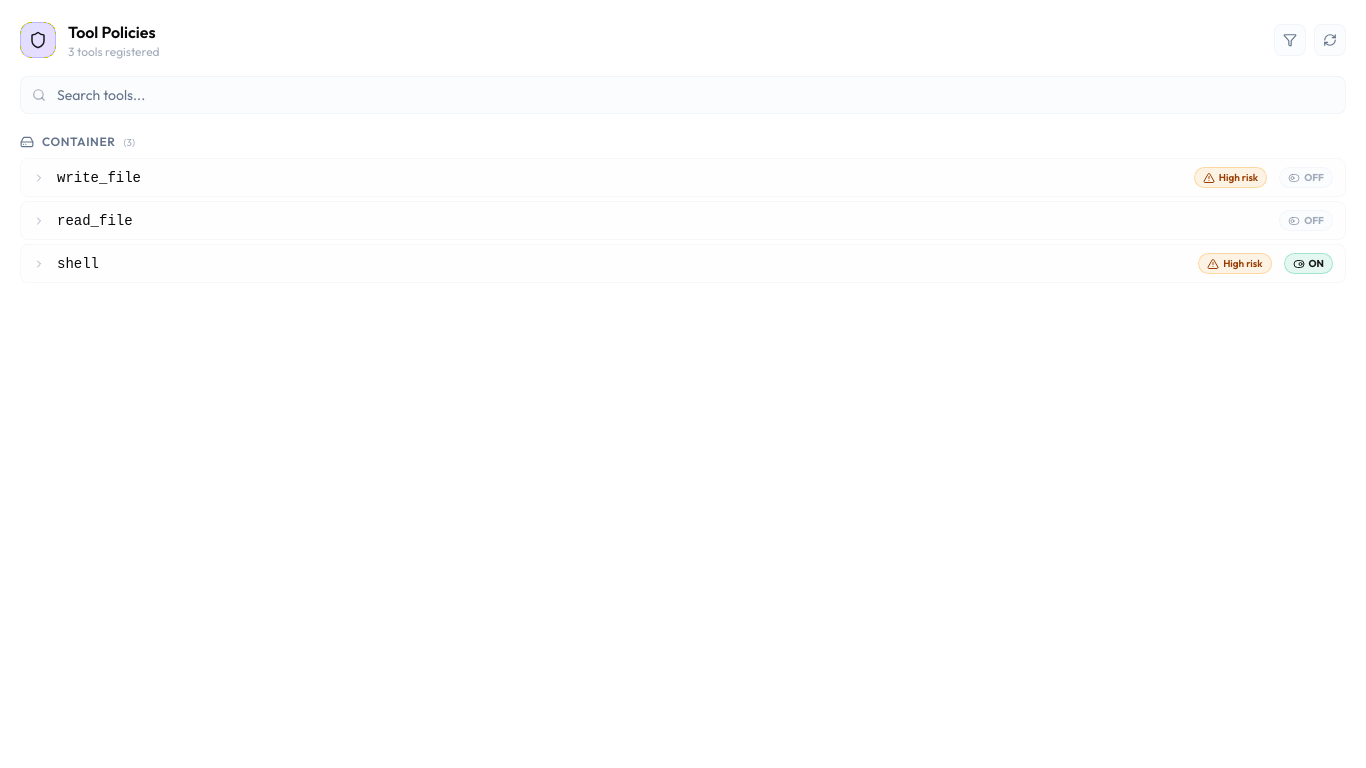
Test case: ThinClawToolPolicies › inherits focus management and Escape cancellation from the shared dialog
This screenshot has width=1366, height=768.
Click the button with aria-label "Enable write_file". click: [1306, 178]
box: [1279,167,1333,188]
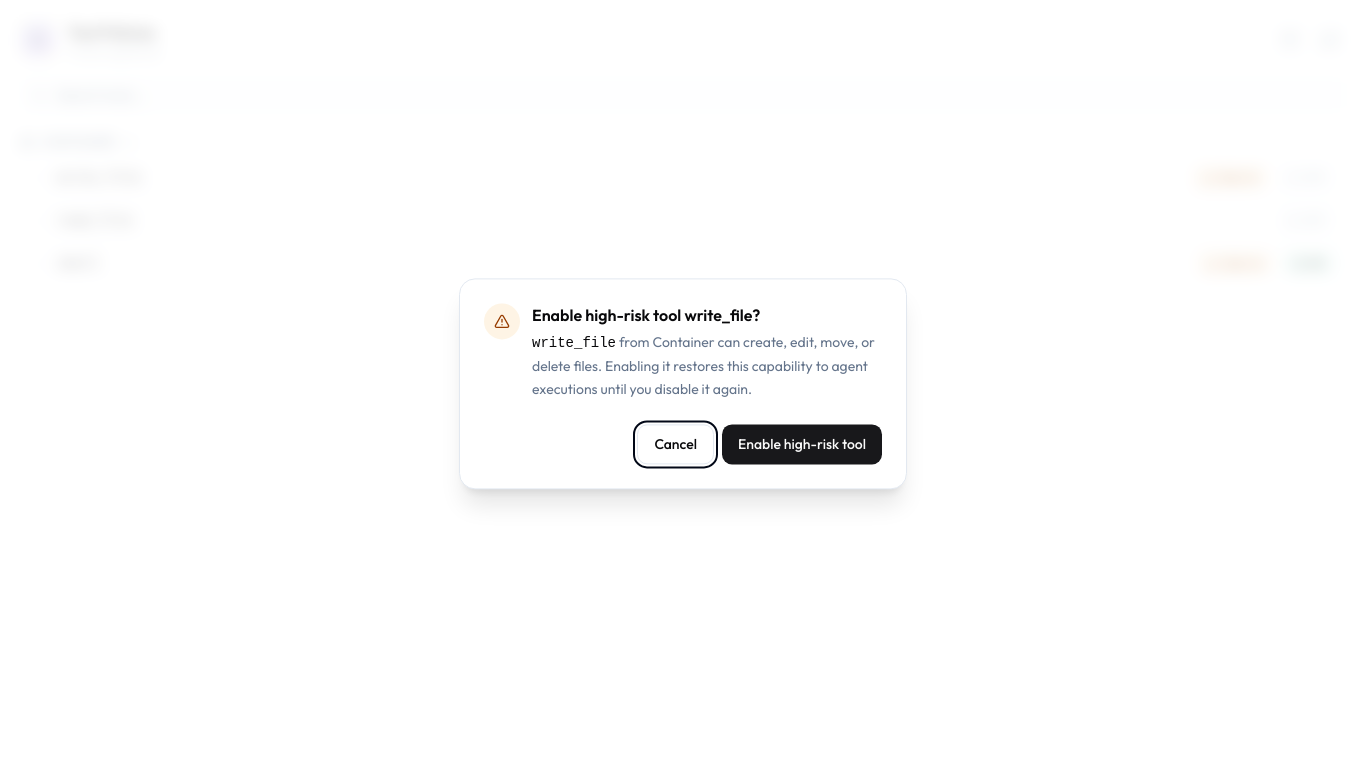
Press Escape
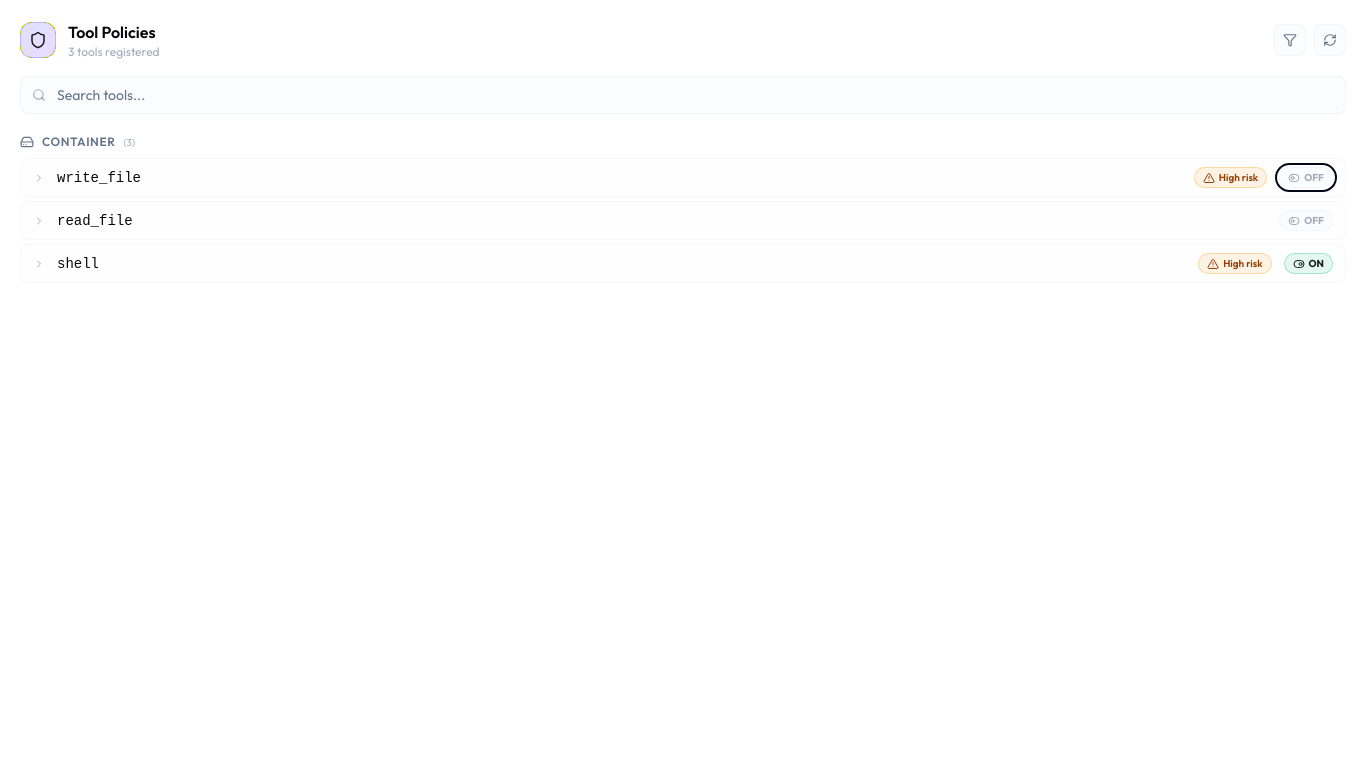
expect the dialog is gone: met
